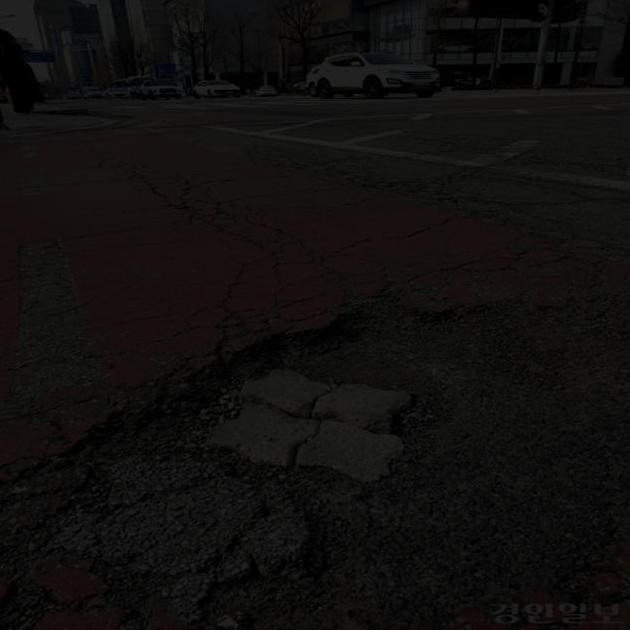pothole: (0, 267, 630, 630)
